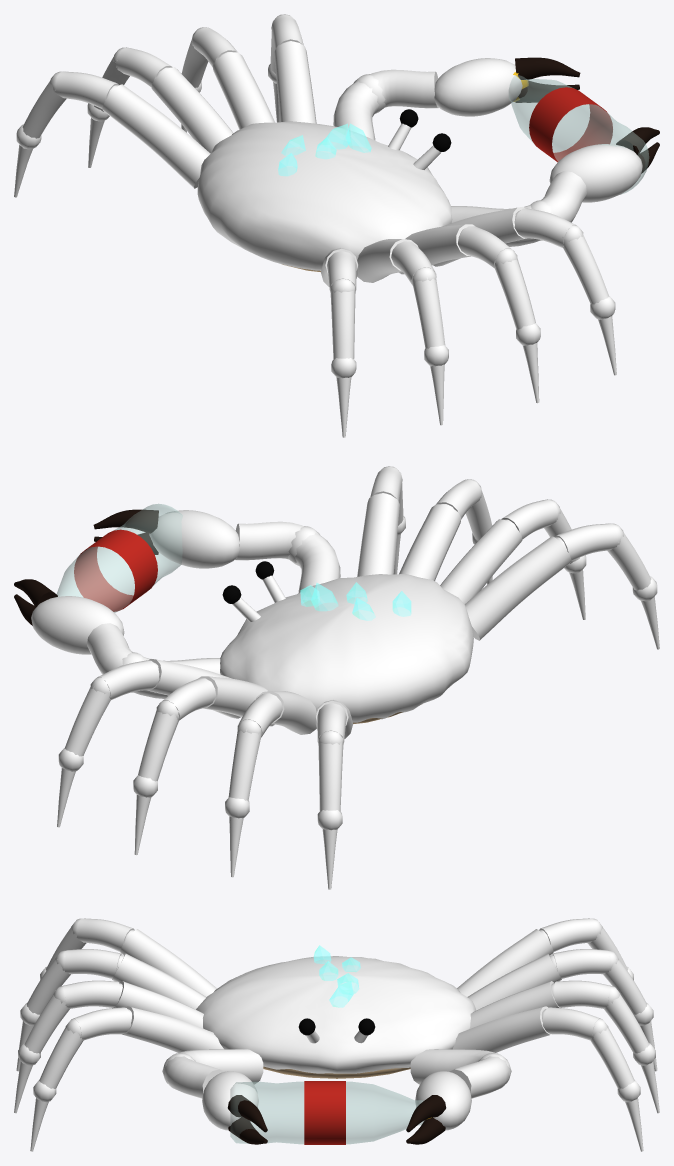
Rendered from gomen-shorewalkers.glb.
3 views of the same model, one above another, from view 1: azimuth 30°, elevation 25°; view 2: azimuth 150°, elevation 25°; view 3: azimuth 270°, elevation 25° (orthographic). The views are drawn at different scales.
Parts seen in each view (by area): view 1: carapace, carried, leg 13 merus, palm 1, cheliped 1, palm -1, carried label, leg 12 merus, leg 10 merus, leg 11 merus, cheliped -1, leg -13 propodus (+19 smaller); view 2: carapace, carried, leg -13 merus, palm -1, cheliped -1, carried label, palm 1, leg -12 merus, leg -10 merus, leg -11 merus, cheliped 1, leg 13 propodus (+18 smaller); view 3: carapace, carried, cheliped -1, cheliped 1, carried label, leg -10 merus, leg 10 merus, leg 13 merus, leg -13 merus, leg -12 merus, leg 12 merus, palm 1 (+29 smaller).
Boxes of the visible parts, <box> form: carapace: <box>197,121,452,270</box>; carried: <box>509,75,649,194</box>; leg 13 merus: <box>102,84,210,188</box>; palm 1: <box>434,58,522,116</box>; cheliped 1: <box>333,69,438,140</box>; palm -1: <box>549,144,642,202</box>; carried label: <box>529,87,612,162</box>; leg 12 merus: <box>151,67,233,153</box>; leg 10 merus: <box>274,41,316,123</box>; leg 11 merus: <box>212,52,274,129</box>; cheliped -1: <box>451,171,586,246</box>; leg -13 propodus: <box>330,288,355,359</box>; carapace: <box>220,573,473,722</box>; carried: <box>57,503,182,612</box>; leg -13 merus: <box>465,536,571,640</box>; palm -1: <box>149,510,239,568</box>; cheliped -1: <box>235,521,340,592</box>; carried label: <box>74,529,157,611</box>; palm 1: <box>31,596,124,654</box>; leg -12 merus: <box>440,519,522,603</box>; leg -10 merus: <box>357,493,399,576</box>; leg -11 merus: <box>399,504,461,580</box>; cheliped 1: <box>87,623,220,698</box>; leg 13 propodus: <box>318,740,343,811</box>; carapace: <box>196,956,475,1073</box>; carried: <box>230,1081,424,1144</box>; cheliped -1: <box>164,1049,263,1098</box>; cheliped 1: <box>410,1049,509,1098</box>; carried label: <box>304,1081,345,1144</box>; leg -10 merus: <box>121,1006,223,1052</box>; leg 10 merus: <box>452,1006,552,1052</box>; leg 13 merus: <box>457,929,553,996</box>; leg -13 merus: <box>120,929,216,996</box>; leg -12 merus: <box>112,953,206,1009</box>; leg 12 merus: <box>467,953,561,1010</box>; palm 1: <box>415,1071,471,1130</box>.
Size of the model in its own units: 0.6547 by 0.21 by 0.9098.
